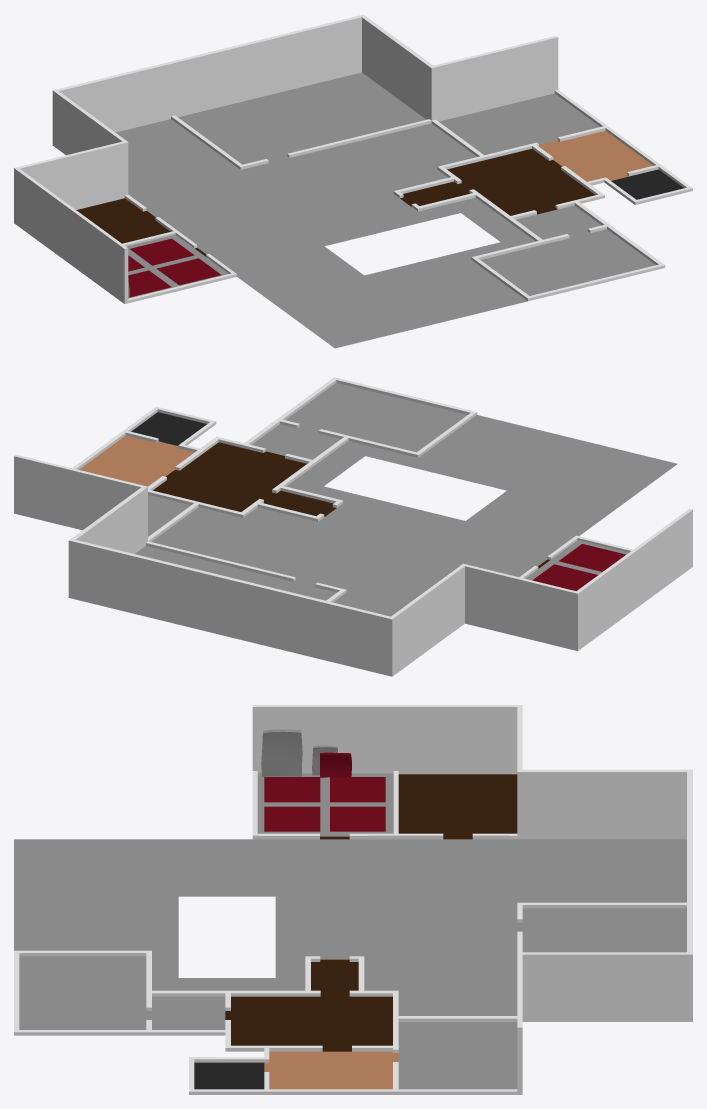
The model's file is Salle_010.FBX.
3 views of the same model, one above another, from view 1: azimuth 30°, elevation 25°; view 2: azimuth 150°, elevation 25°; view 3: azimuth 270°, elevation 25° (orthographic). The views are drawn at different scales.
Parts seen in each view (by area): view 1: Piece_010, Tapis_Judo; view 2: Piece_010, Tapis_Judo; view 3: Piece_010, Tapis_Judo, Matelas_01, Matelas_03.
Boxes of the visible parts, left/top/right/bottom form: Piece_010: left=14, top=14, right=692, bottom=348; Tapis_Judo: left=126, top=234, right=228, bottom=297; Piece_010: left=14, top=377, right=692, bottom=676; Tapis_Judo: left=525, top=540, right=628, bottom=591; Piece_010: left=14, top=705, right=692, bottom=1094; Tapis_Judo: left=257, top=773, right=393, bottom=836; Matelas_01: left=261, top=729, right=302, bottom=776; Matelas_03: left=320, top=752, right=351, bottom=777.
Size of the model in its own units: 3085 by 302 by 2744.
